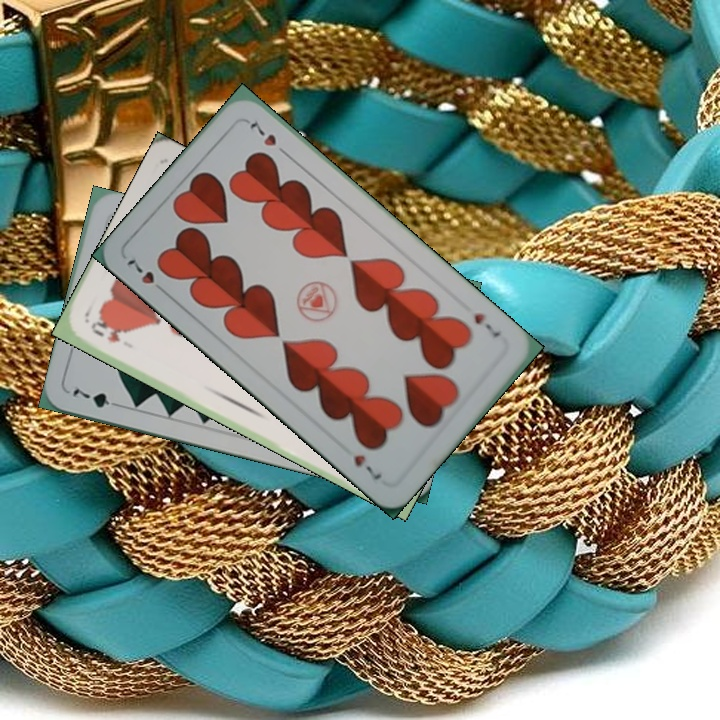G7: (68, 384, 125, 411)
H7: (123, 255, 171, 296), (470, 308, 504, 340)
HO: (87, 318, 123, 345)
